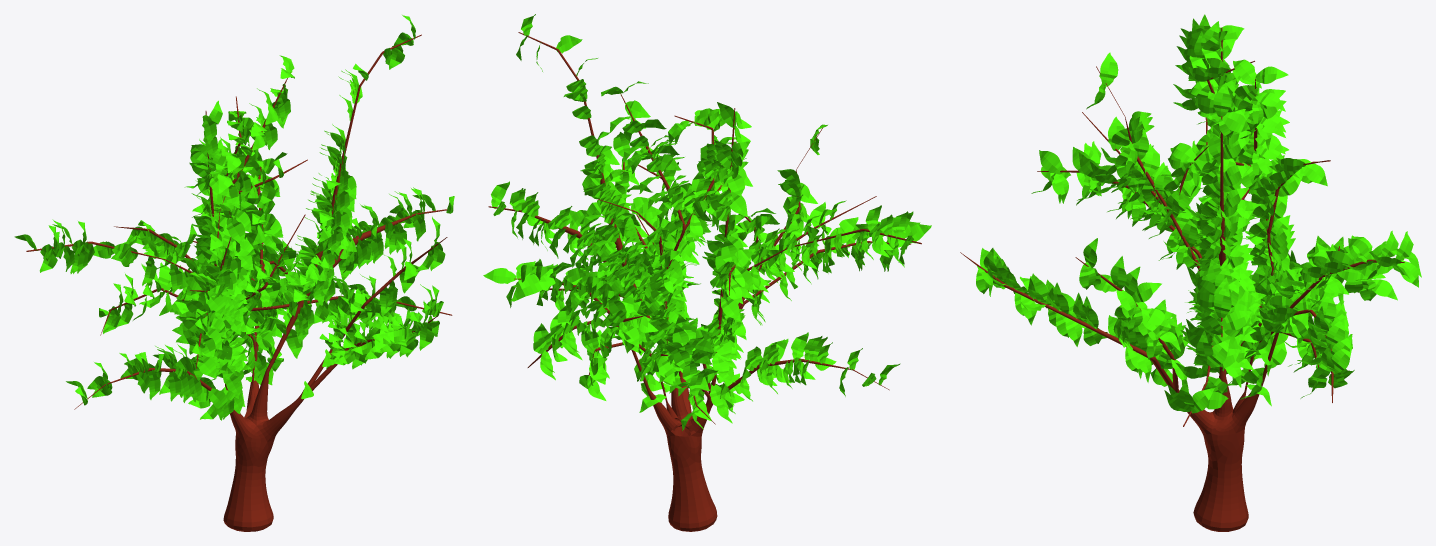
File: tree.fbx
3 views of the same model, side by side, from view 1: azimuth 30°, elevation 25°; view 2: azimuth 150°, elevation 25°; view 3: azimuth 270°, elevation 25° (orthographic). The views are drawn at different scales.
Parts seen in each view (by area): view 1: Cube; view 2: Cube, Plane.001; view 3: Cube.
Part boxes in pixels (<box>): Cube: <box>26,34,452,531</box>; Cube: <box>488,32,921,531</box>; Plane.001: <box>510,274,555,301</box>; Cube: <box>960,28,1404,531</box>.
Bounding box in the file's own units: 4418 × 4670 × 3711.
